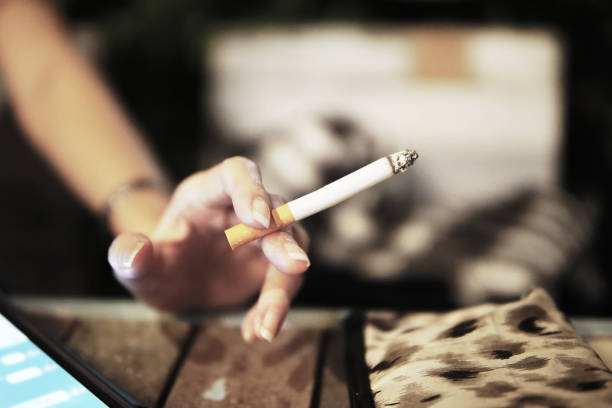cigarette: (223, 146, 417, 251)
